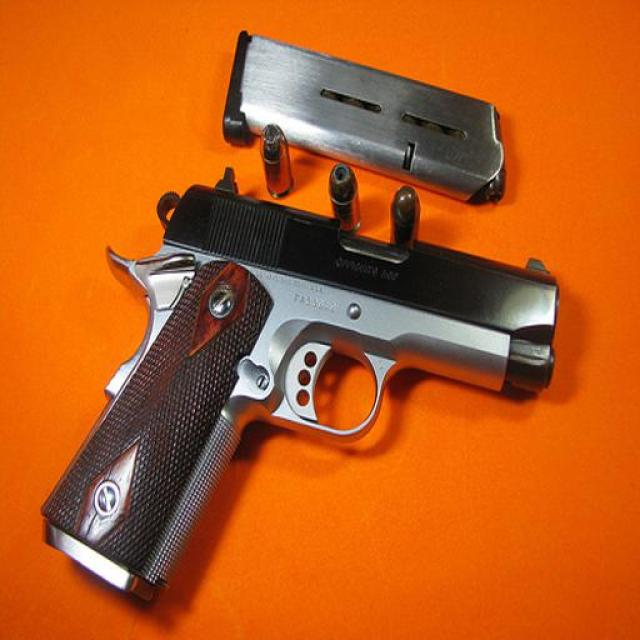pistol: (36, 165, 560, 595)
